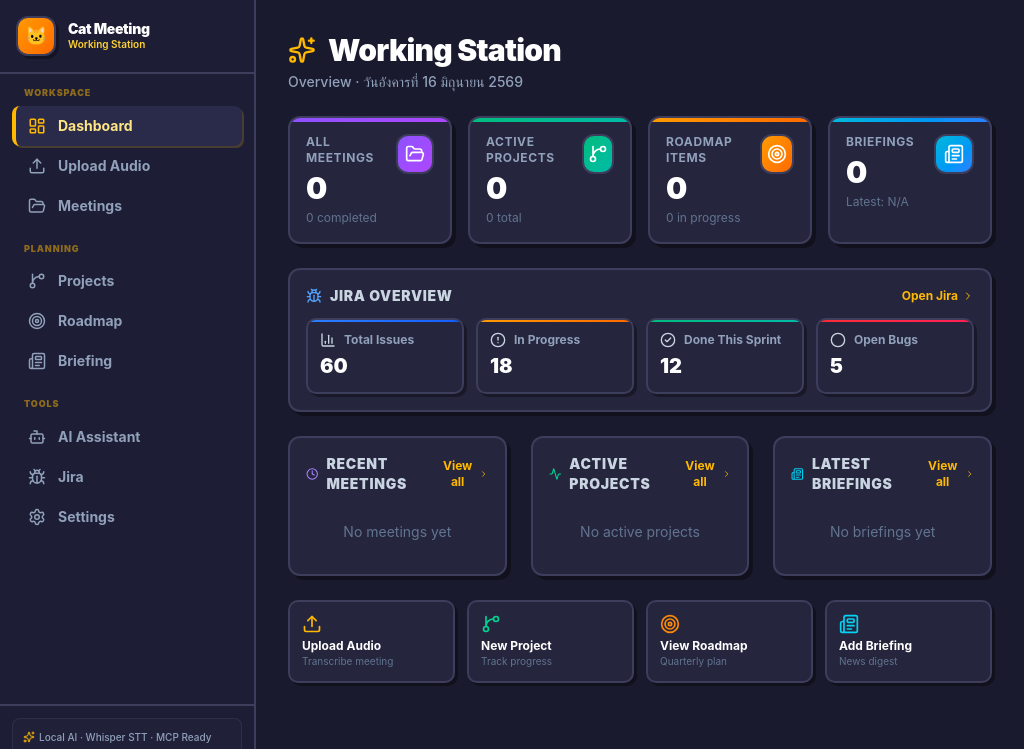
Test: Integration Tests › App Navigation › should navigate to Settings
Click the button "Settings" at (127, 516), box [12,496,242,536]
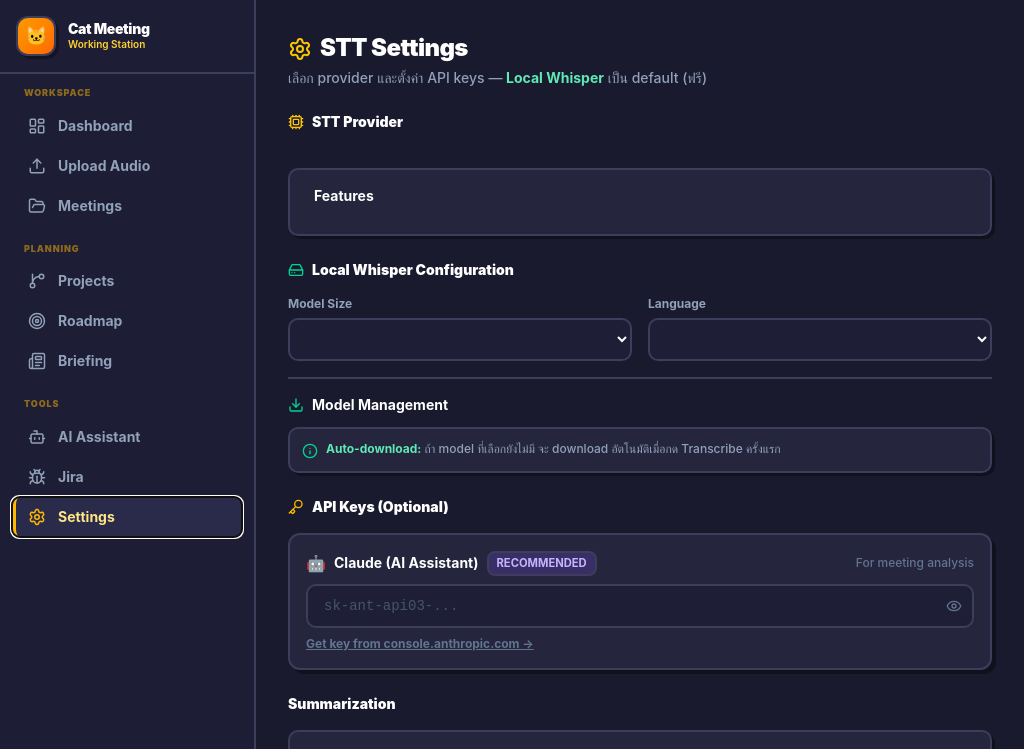
Expected: the heading "STT Provider" is shown, [288,113,403,130]
